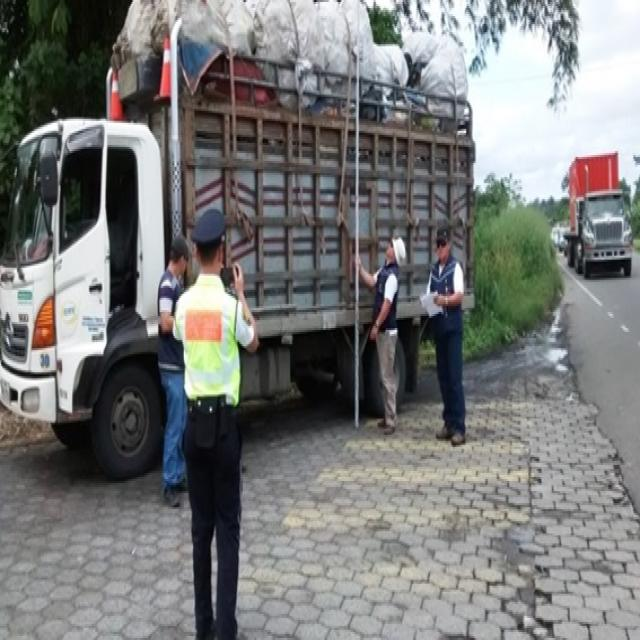TRUCK: (0, 5, 389, 478), (566, 188, 632, 279)
